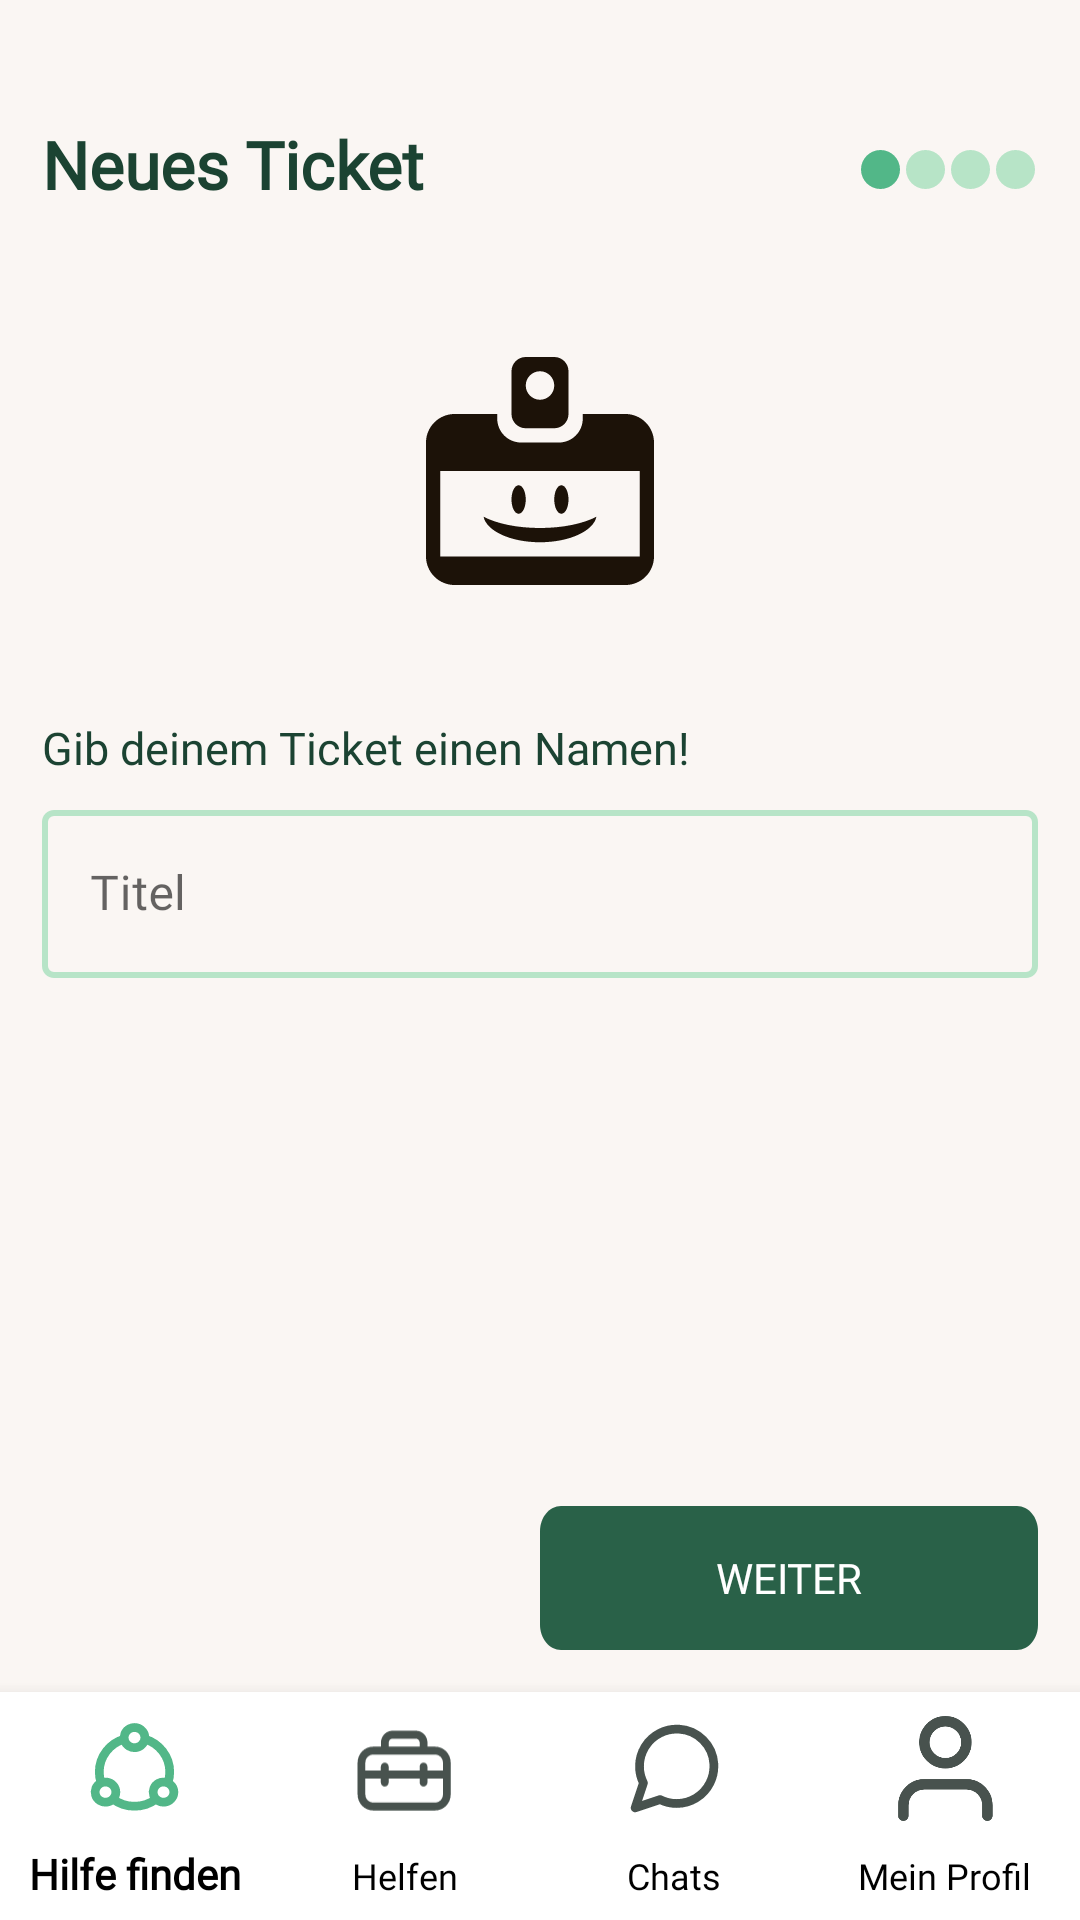

Point at icon controls on the screen. Image size 1080*1920, points as point (x, y).
ticket name: point (540, 471)
ticket progress: point (948, 169)
